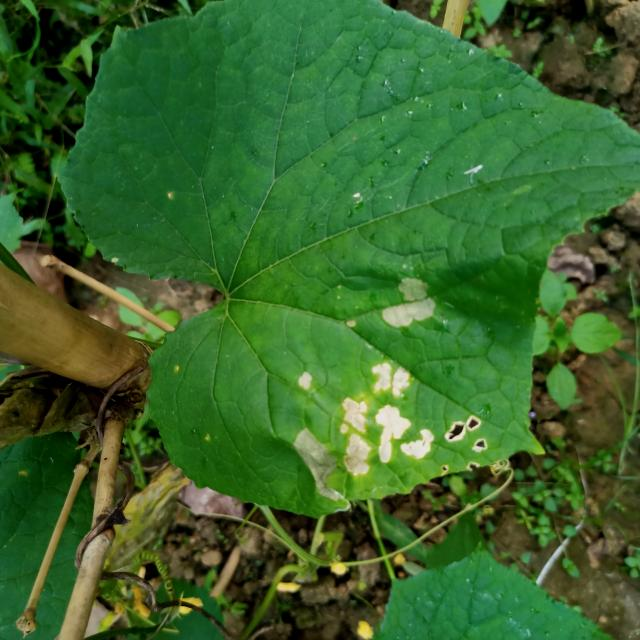disease_cucumber: (277, 356, 493, 504), (375, 273, 440, 335)
